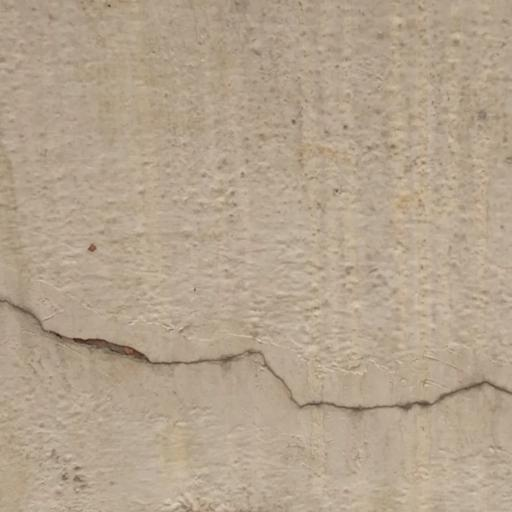minor_crack: (0, 262, 512, 432)
